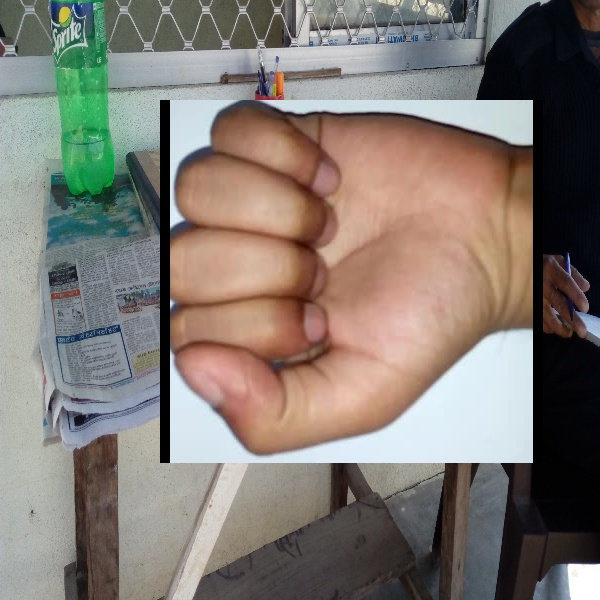F: (160, 100, 543, 463)
